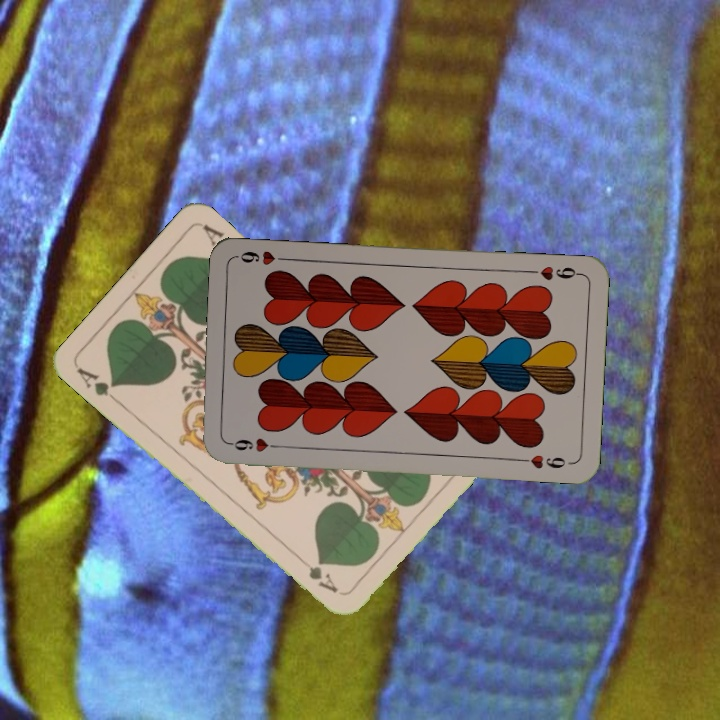GA: (72, 363, 123, 407)
H9: (524, 262, 583, 283), (225, 434, 284, 454)
